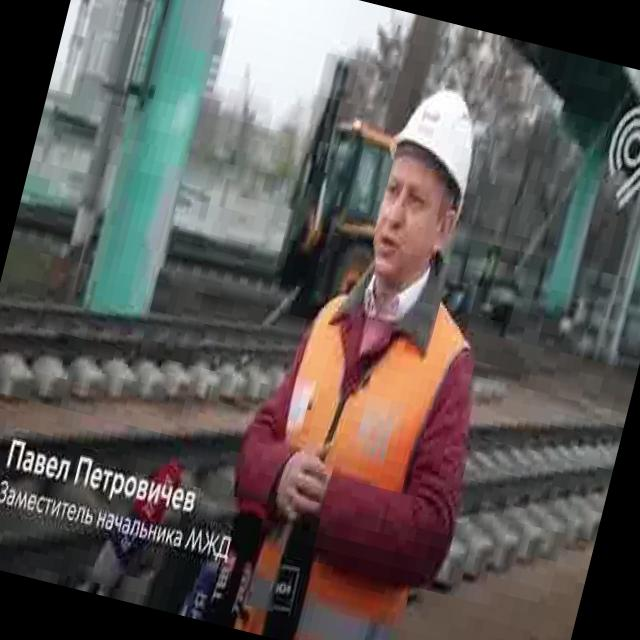hard_hat: (375, 77, 489, 219)
safety_vest: (233, 257, 486, 640)
